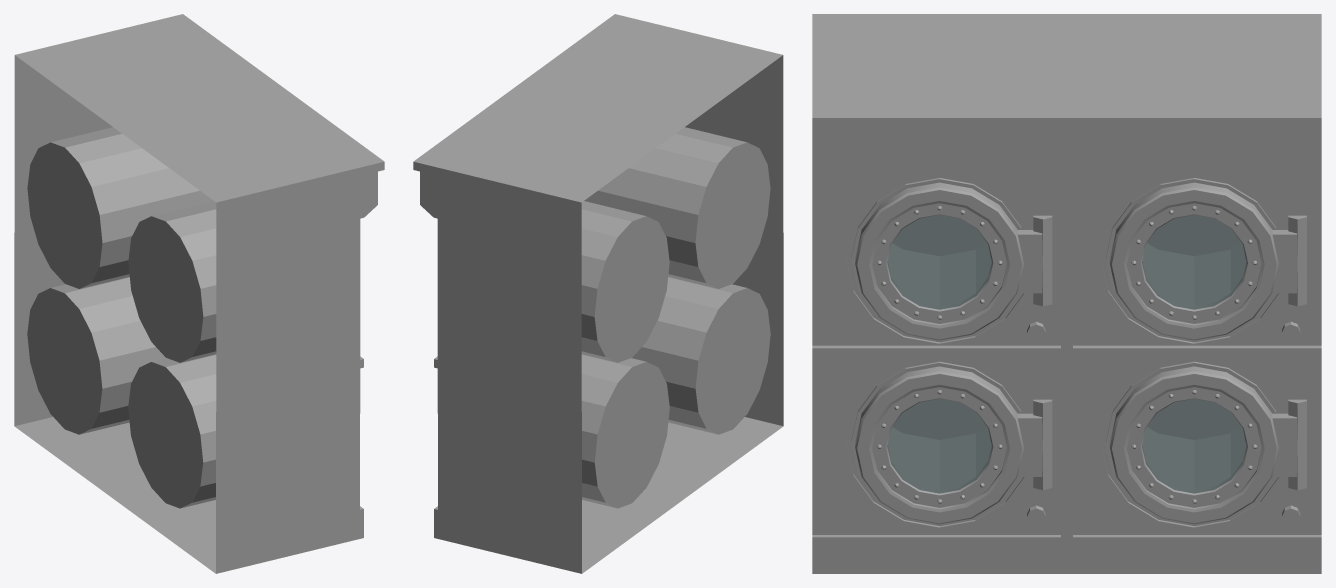
Rendered from Drier_MDL_PDH.fbx.
3 views of the same model, side by side, from view 1: azimuth 30°, elevation 25°; view 2: azimuth 150°, elevation 25°; view 3: azimuth 270°, elevation 25° (orthographic). The views are drawn at different scales.
Parts seen in each view (by area): view 1: DrierBody_MDL_PDH; view 2: DrierBody_MDL_PDH; view 3: DrierBody_MDL_PDH, DrierWindow03_MDL_PDH, DrierWindow01_MDL_PDH, DrierWindow02_MDL_PDH, DrierWindow04_MDL_PDH.
Boxes of the visible parts, x1,y1,x2,y2 form: DrierBody_MDL_PDH: (14, 14, 384, 573); DrierBody_MDL_PDH: (413, 14, 783, 573); DrierBody_MDL_PDH: (812, 14, 1321, 573); DrierWindow03_MDL_PDH: (855, 366, 1052, 524); DrierWindow01_MDL_PDH: (855, 182, 1052, 340); DrierWindow02_MDL_PDH: (1109, 182, 1306, 340); DrierWindow04_MDL_PDH: (1109, 366, 1306, 524).
Size of the model in its own units: 1.14 by 2.39 by 2.35.
